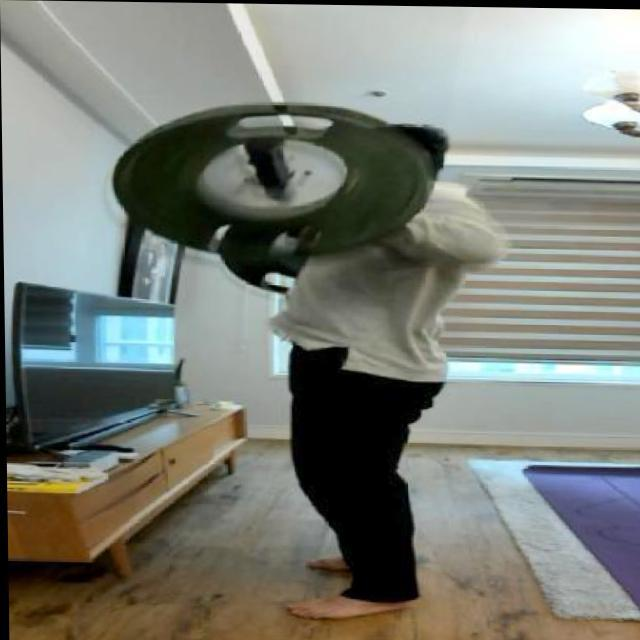barbell: (103, 93, 434, 268)
